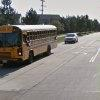Bus: (3, 19, 59, 65)
